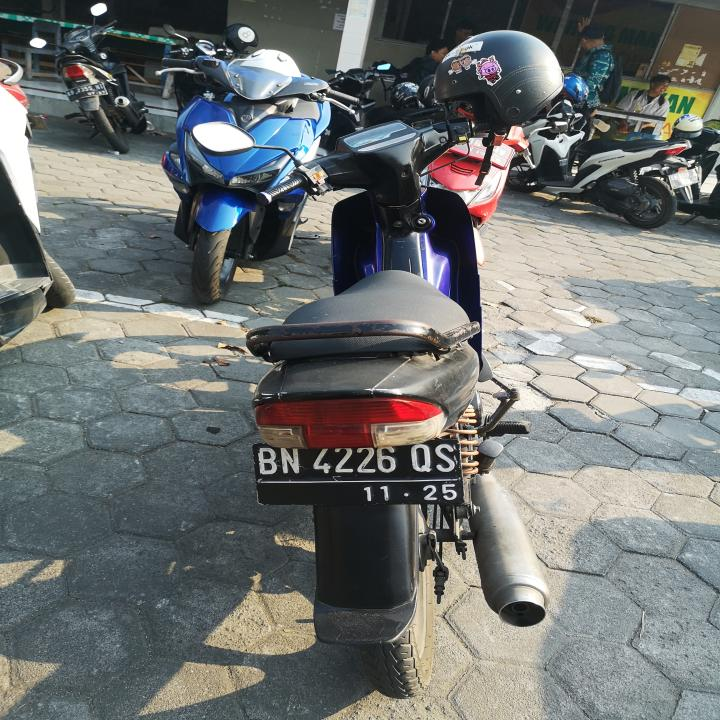plate: (252, 437, 465, 508)
